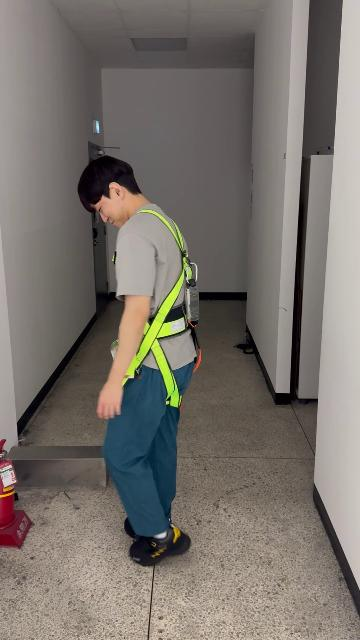helmet_not_worn: (77, 155, 143, 211)
shoe_worn: (128, 523, 190, 566)
vest_worn: (111, 213, 200, 404)
